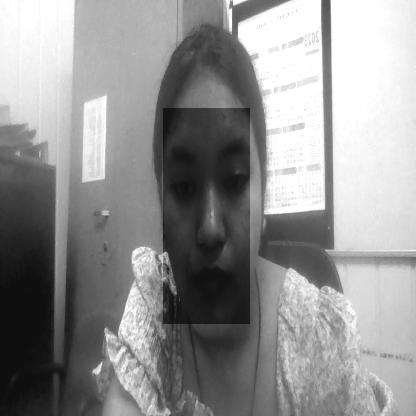Normal: (163, 108, 250, 324)
